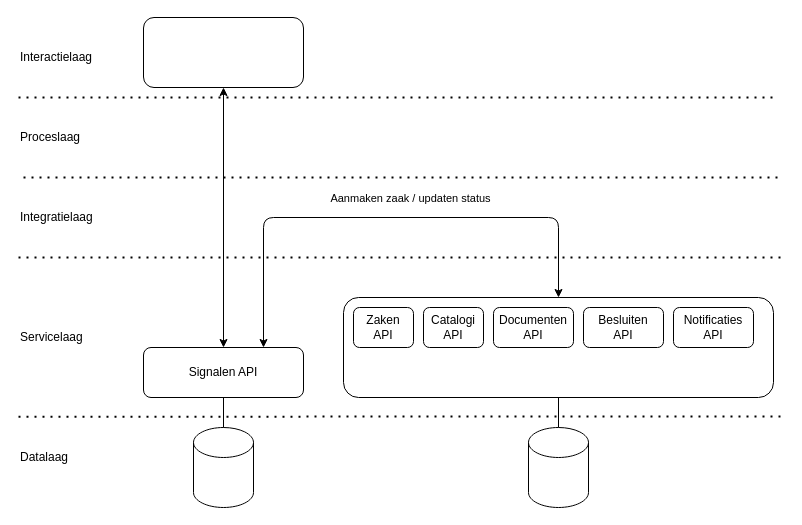
This 802x525 diagram has some shape labels left out. The box of each missing label's shape, as (x1, y1, x2, y2) in pixels:
Openzaak: (342, 296, 774, 398)
Signalen frontend en backoffice: (142, 16, 304, 88)
